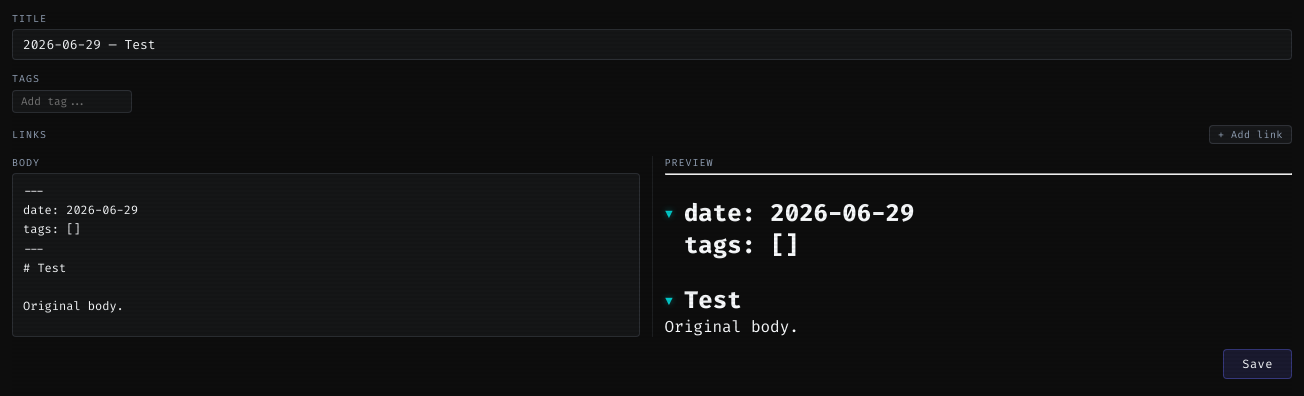
KnowledgeEditor — error handling › disables Save button while saving is in progress
Replace the text in the text box labelled "Body" with "changed content" at point(326, 255), box left=12, top=173, right=640, bottom=337
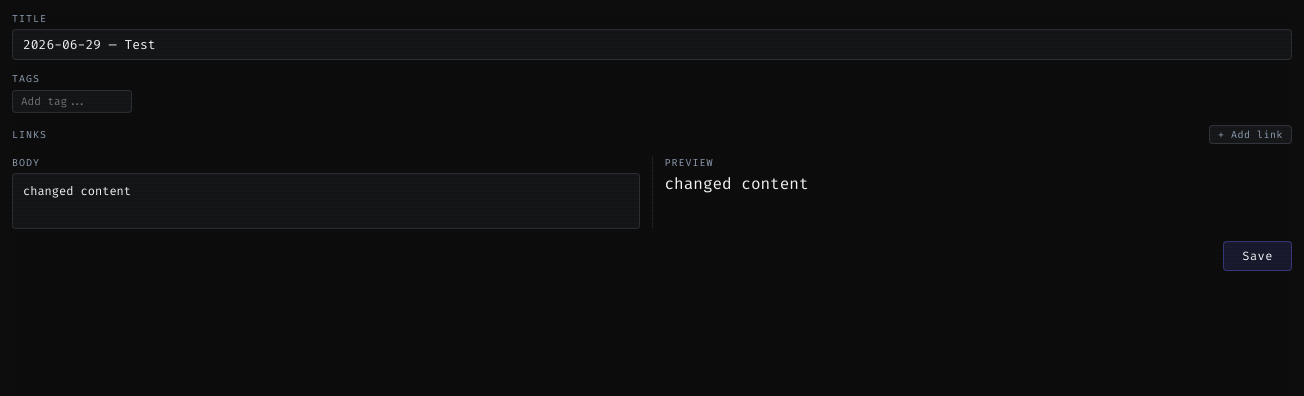
Click the button "Save" at point(1258, 256), box left=1223, top=241, right=1292, bottom=271
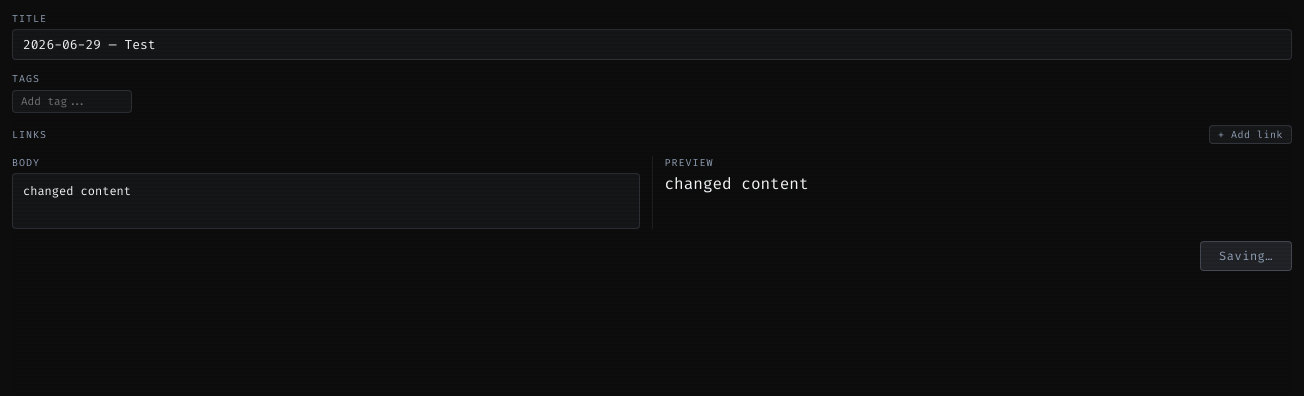
Now the button "Saving…" is disabled, box left=1200, top=241, right=1292, bottom=271
